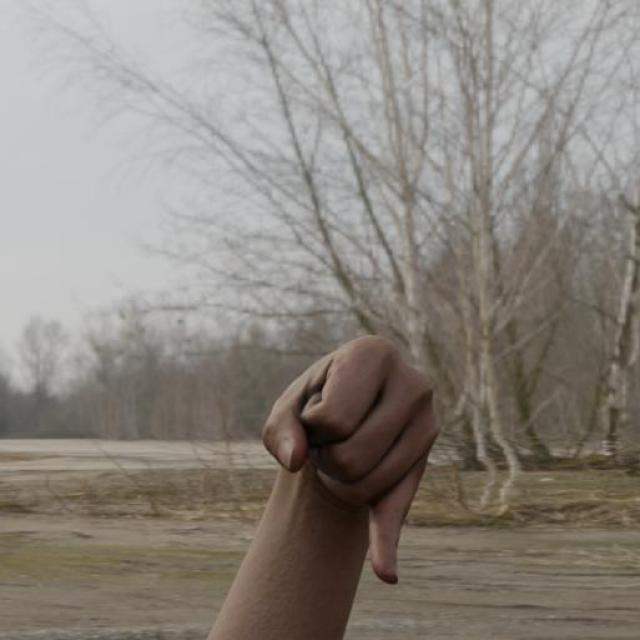J: (258, 330, 446, 590)
